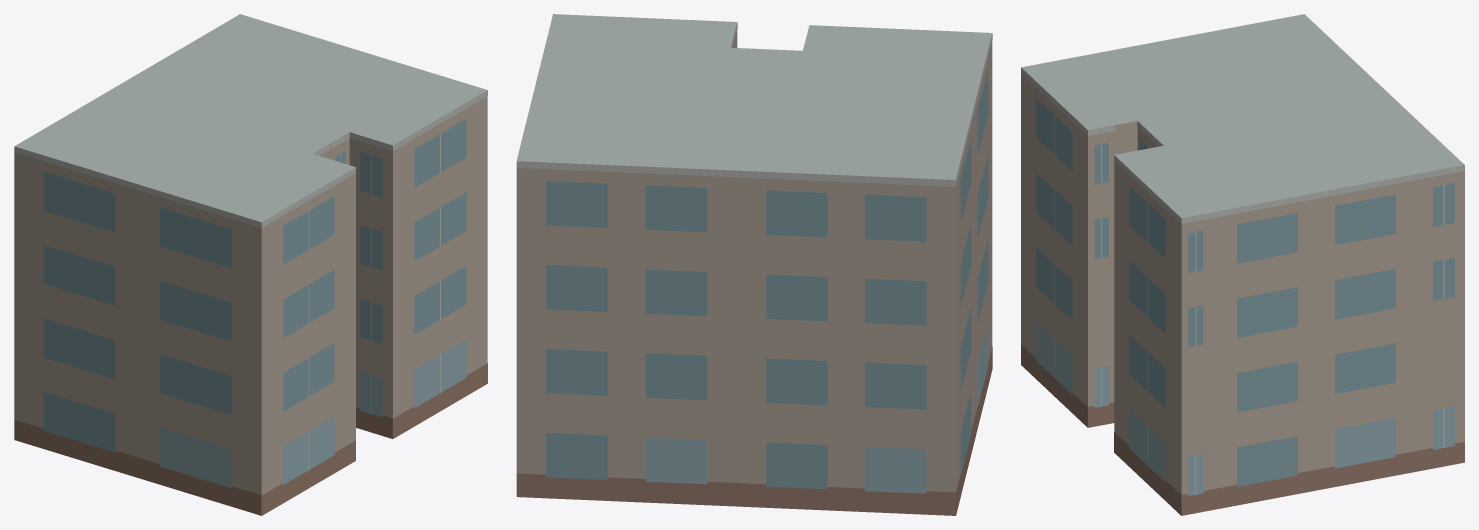
Rendered from survey-upis-32745564.glb.
3 renders of one model, left to right at view 1: azimuth 30°, elevation 25°; view 2: azimuth 150°, elevation 25°; view 3: azimuth 270°, elevation 25°, orthographic. The views are drawn at different scales.
Visible parts, largest first — view 1: survey-upis-32745564.tmp; view 2: survey-upis-32745564.tmp; view 3: survey-upis-32745564.tmp.
Boxes of the visible parts, box(x1,y1,x2,y2) form: survey-upis-32745564.tmp: box(14, 14, 487, 515); survey-upis-32745564.tmp: box(516, 14, 992, 515); survey-upis-32745564.tmp: box(1021, 14, 1464, 515).
Bounding box in the file's own units: 17.96 × 12.2 × 16.49.
